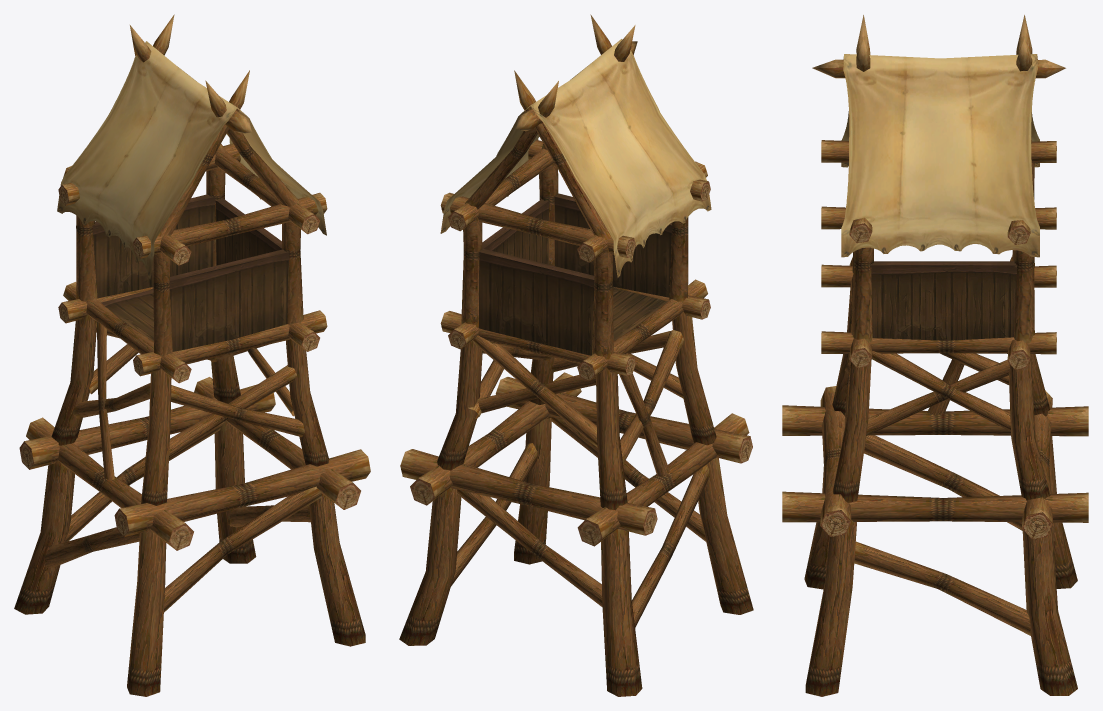
Rendered from environment_Building_tower_002_a.FBX.
3 renders of one model, left to right at view 1: azimuth 30°, elevation 25°; view 2: azimuth 150°, elevation 25°; view 3: azimuth 270°, elevation 25°, orthographic. The views are drawn at different scales.
Visible parts, largest first — view 1: environment_Building_tower_002_a, environment_Building_tower_002_b, environment_Building_tower_002_c; view 2: environment_Building_tower_002_a, environment_Building_tower_002_b, environment_Building_tower_002_c; view 3: environment_Building_tower_002_a, environment_Building_tower_002_b, environment_Building_tower_002_c.
Boxes of the visible parts, left/top/right/bottom form: environment_Building_tower_002_a: left=14, top=14, right=370, bottom=696; environment_Building_tower_002_b: left=57, top=41, right=326, bottom=279; environment_Building_tower_002_c: left=92, top=194, right=289, bottom=351; environment_Building_tower_002_a: left=399, top=14, right=753, bottom=696; environment_Building_tower_002_b: left=440, top=39, right=711, bottom=277; environment_Building_tower_002_c: left=478, top=193, right=671, bottom=355; environment_Building_tower_002_a: left=782, top=15, right=1088, bottom=696; environment_Building_tower_002_b: left=841, top=54, right=1039, bottom=257; environment_Building_tower_002_c: left=871, top=261, right=1017, bottom=340.
Bounding box in the file's own units: 526 × 1197 × 545.
